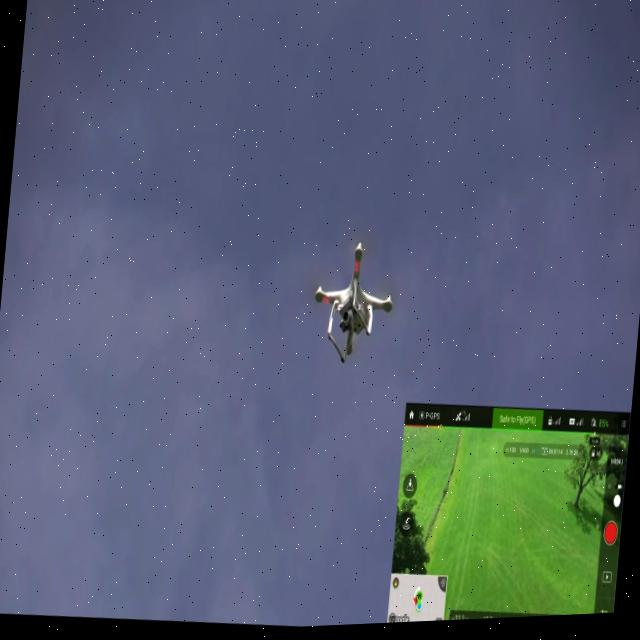drone: (306, 235, 398, 372)
